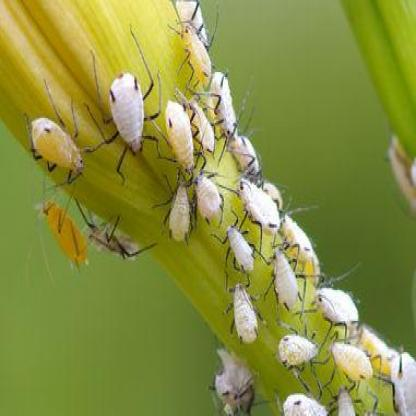aphid: (84, 35, 160, 165), (34, 188, 98, 284), (22, 108, 96, 190), (82, 198, 155, 274), (328, 312, 381, 402), (308, 281, 374, 347), (230, 158, 279, 246), (160, 90, 202, 184), (200, 54, 240, 150), (270, 322, 328, 388), (227, 262, 269, 351), (207, 353, 266, 416), (278, 207, 322, 283), (376, 339, 416, 416), (266, 240, 307, 315), (176, 12, 216, 86), (160, 162, 195, 245), (184, 92, 226, 160), (222, 219, 262, 282), (227, 119, 265, 182), (192, 171, 229, 233), (279, 379, 334, 416)
